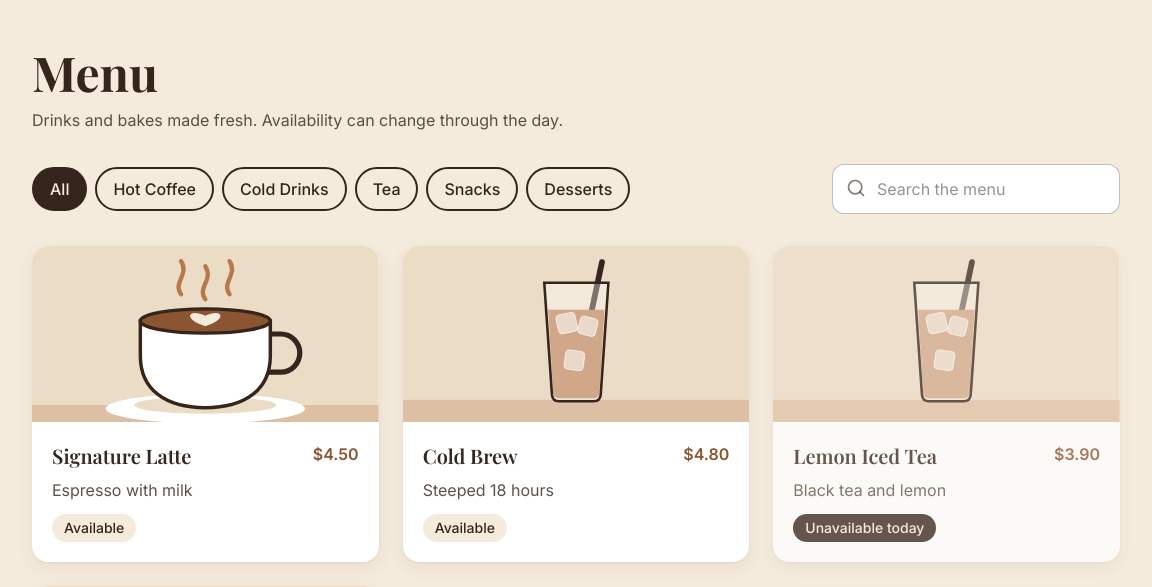
Test: Menu page › filters by category
Expected: the heading "Signature Latte" is shown, [52, 442, 191, 470]
Click the button "Cold Drinks". click: [284, 189]
box: [222, 167, 347, 211]
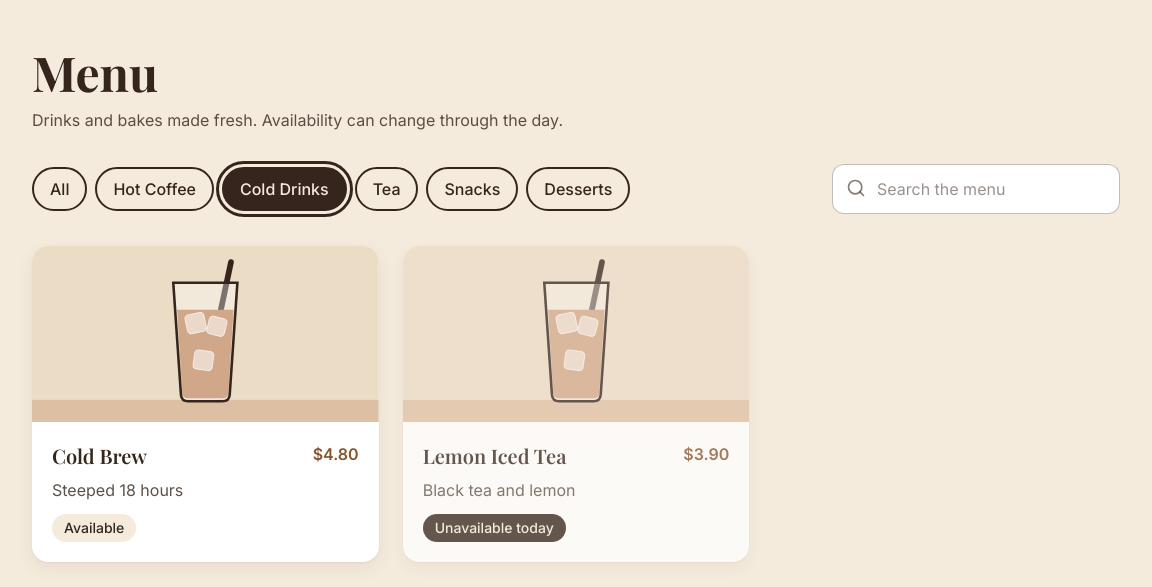
Expected: the heading "Cold Brew" is shown, [52, 442, 147, 470]
Now the heading "Signature Latte" is gone
